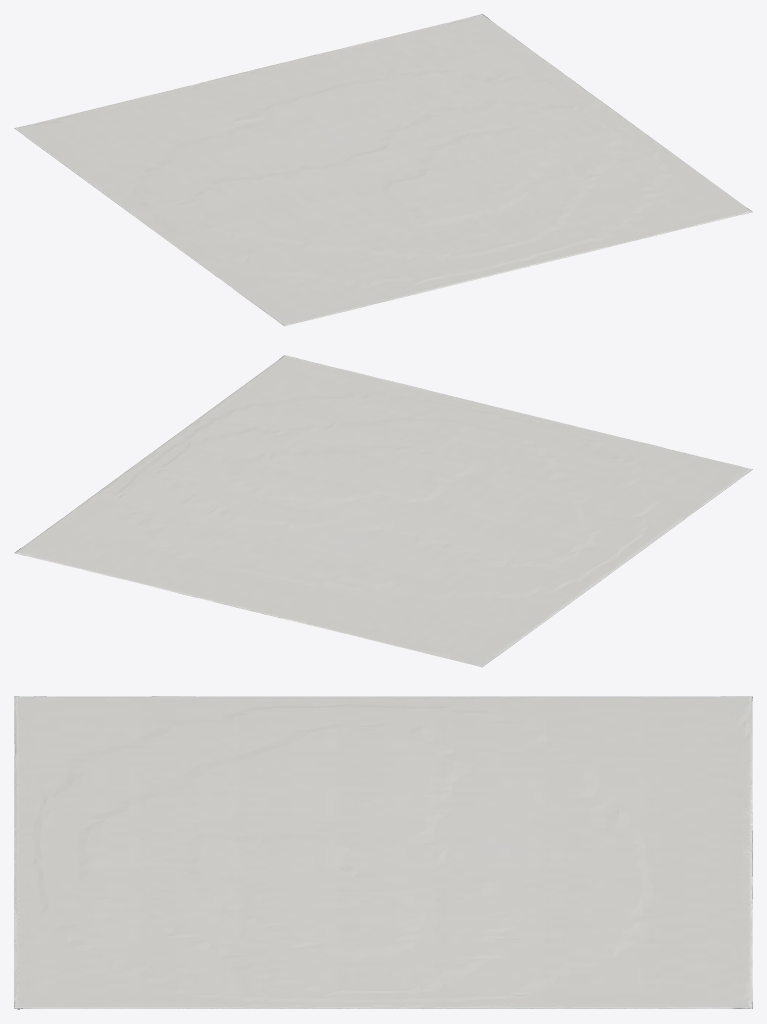
The model's file is 54f99cb4-2419-4b09-aee1-8eb087731c59.glb.
3 renders of one model, top to bottom at view 1: azimuth 30°, elevation 25°; view 2: azimuth 150°, elevation 25°; view 3: azimuth 270°, elevation 25°, orthographic. The views are drawn at different scales.
Visible parts, largest first — view 1: world; view 2: world; view 3: world.
Part boxes in pixels (x1=…): world: x1=14, y1=14, x2=752, y2=326; world: x1=14, y1=355, x2=752, y2=667; world: x1=14, y1=696, x2=752, y2=1009.
Bounding box in the file's own units: 1 × 0.0044 × 1.
1 material, 1 textured.
